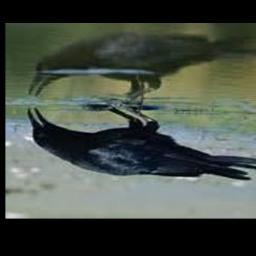Crow: (27, 104, 256, 182)
